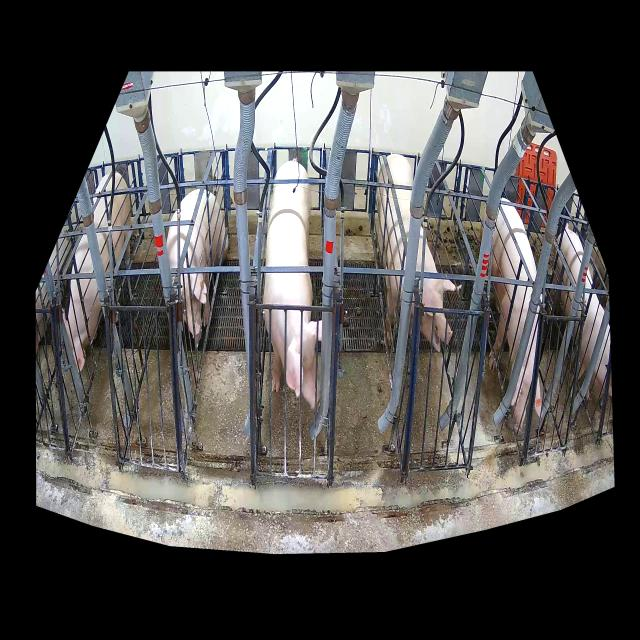pig: (377, 155, 457, 352), (263, 160, 322, 410), (62, 173, 130, 372), (489, 198, 542, 431), (551, 227, 612, 413), (166, 189, 228, 342)
